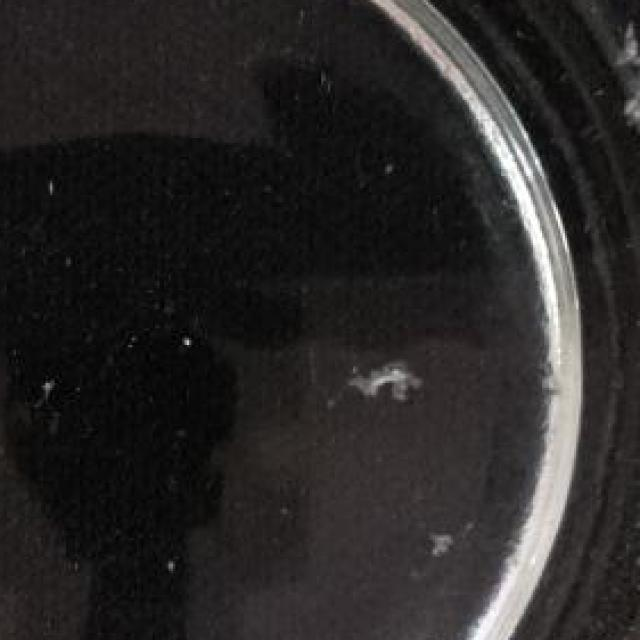Microplastic: (596, 12, 640, 204), (349, 333, 428, 409)
